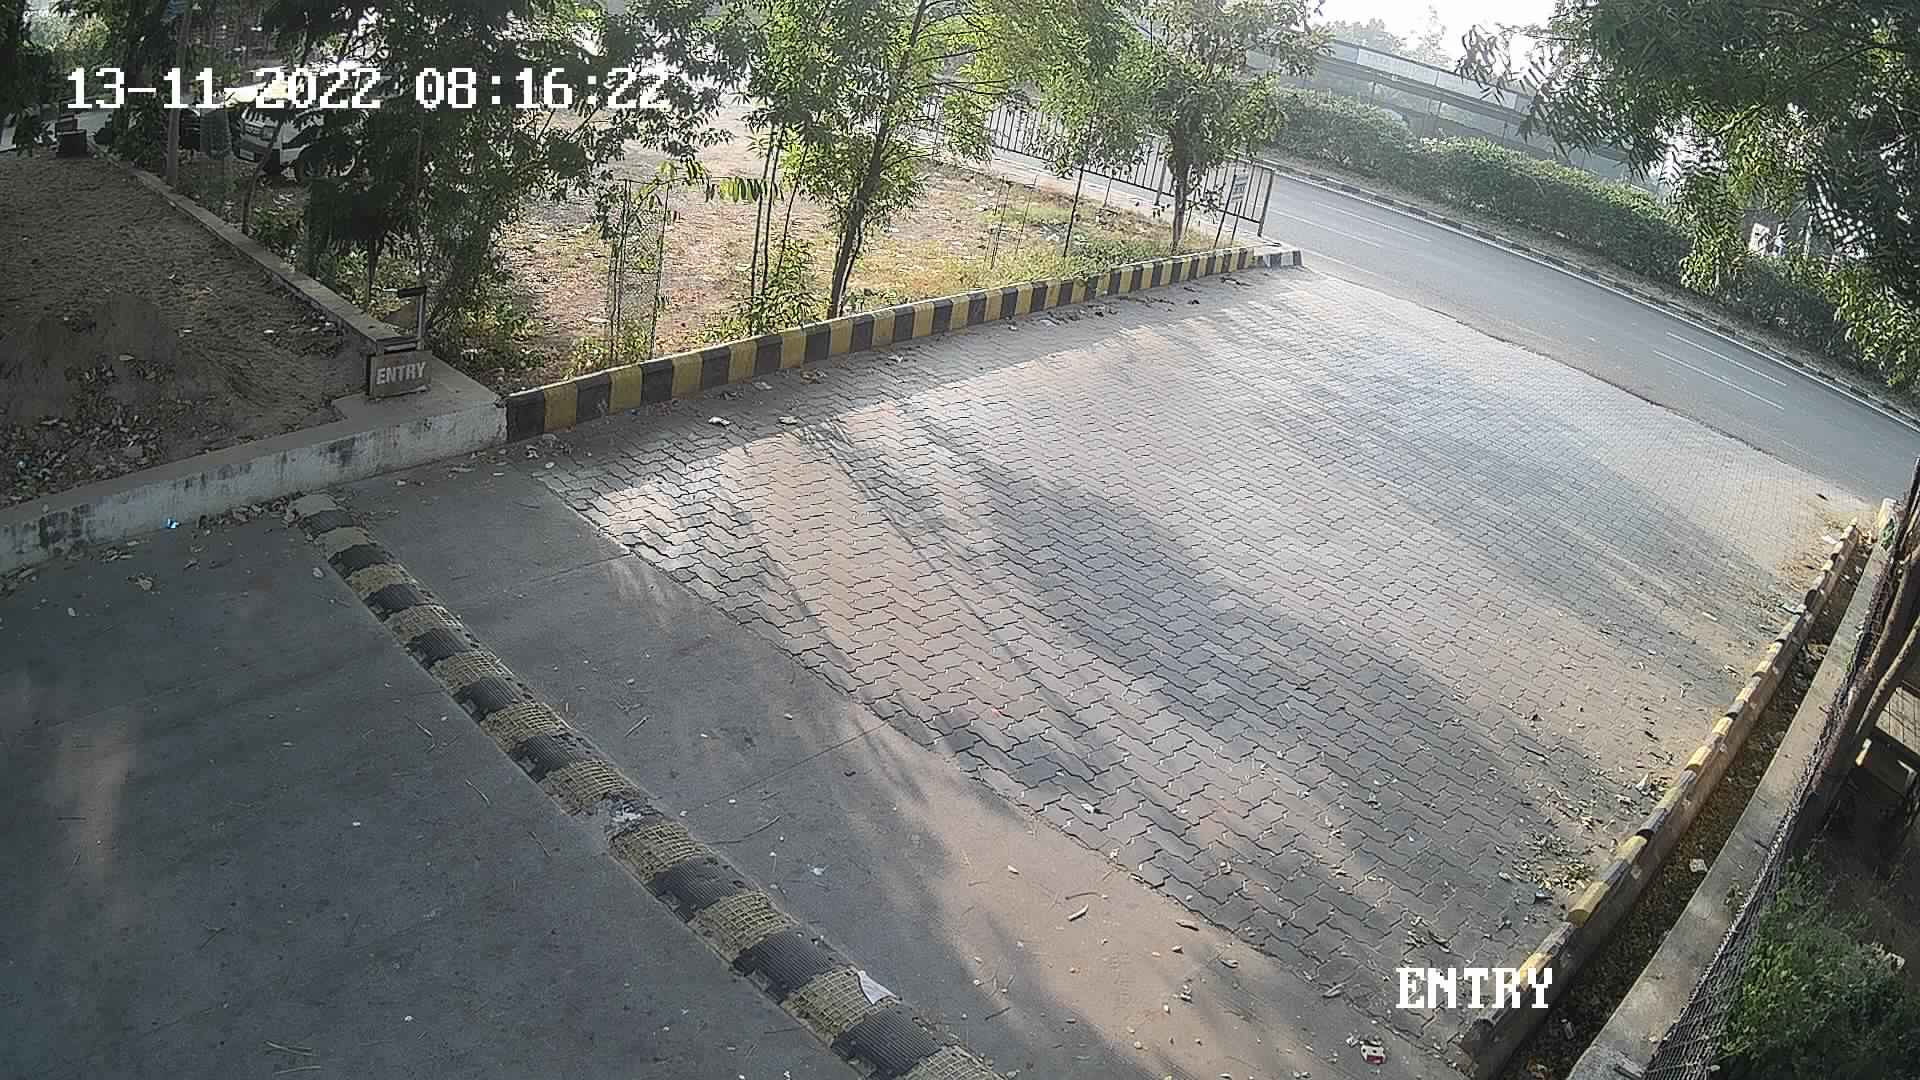Car: (222, 38, 349, 189)
